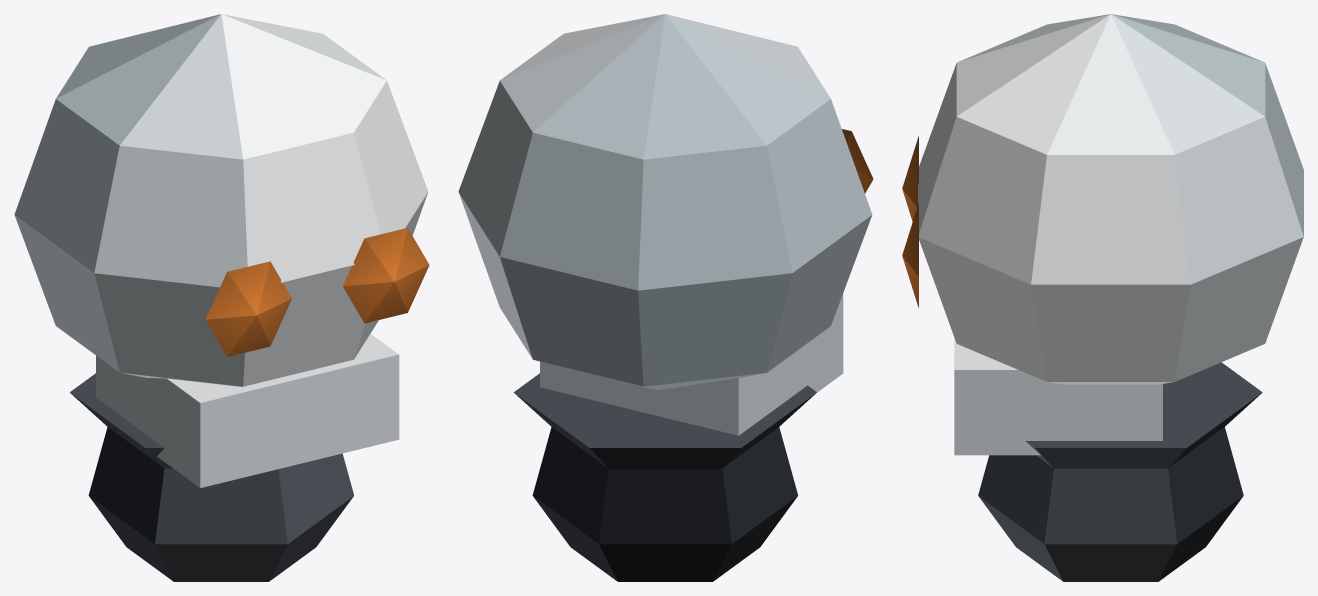
Rendered from uniq_skull_orb.gltf.
The picture shows the model from 3 angles, left to right: view 1: azimuth 30°, elevation 25°; view 2: azimuth 150°, elevation 25°; view 3: azimuth 270°, elevation 25°; orthographic projection.
Parts seen in each view (by area): view 1: uniq_skull_orb; view 2: uniq_skull_orb; view 3: uniq_skull_orb.
Part boxes in pixels (x1,y1,x2,y2): uniq_skull_orb: (14,14,429,581); uniq_skull_orb: (458,14,873,581); uniq_skull_orb: (902,14,1303,581).
Bounding box in the file's own units: 0.2033 × 0.31 × 0.2116.
1 material, 1 textured.
